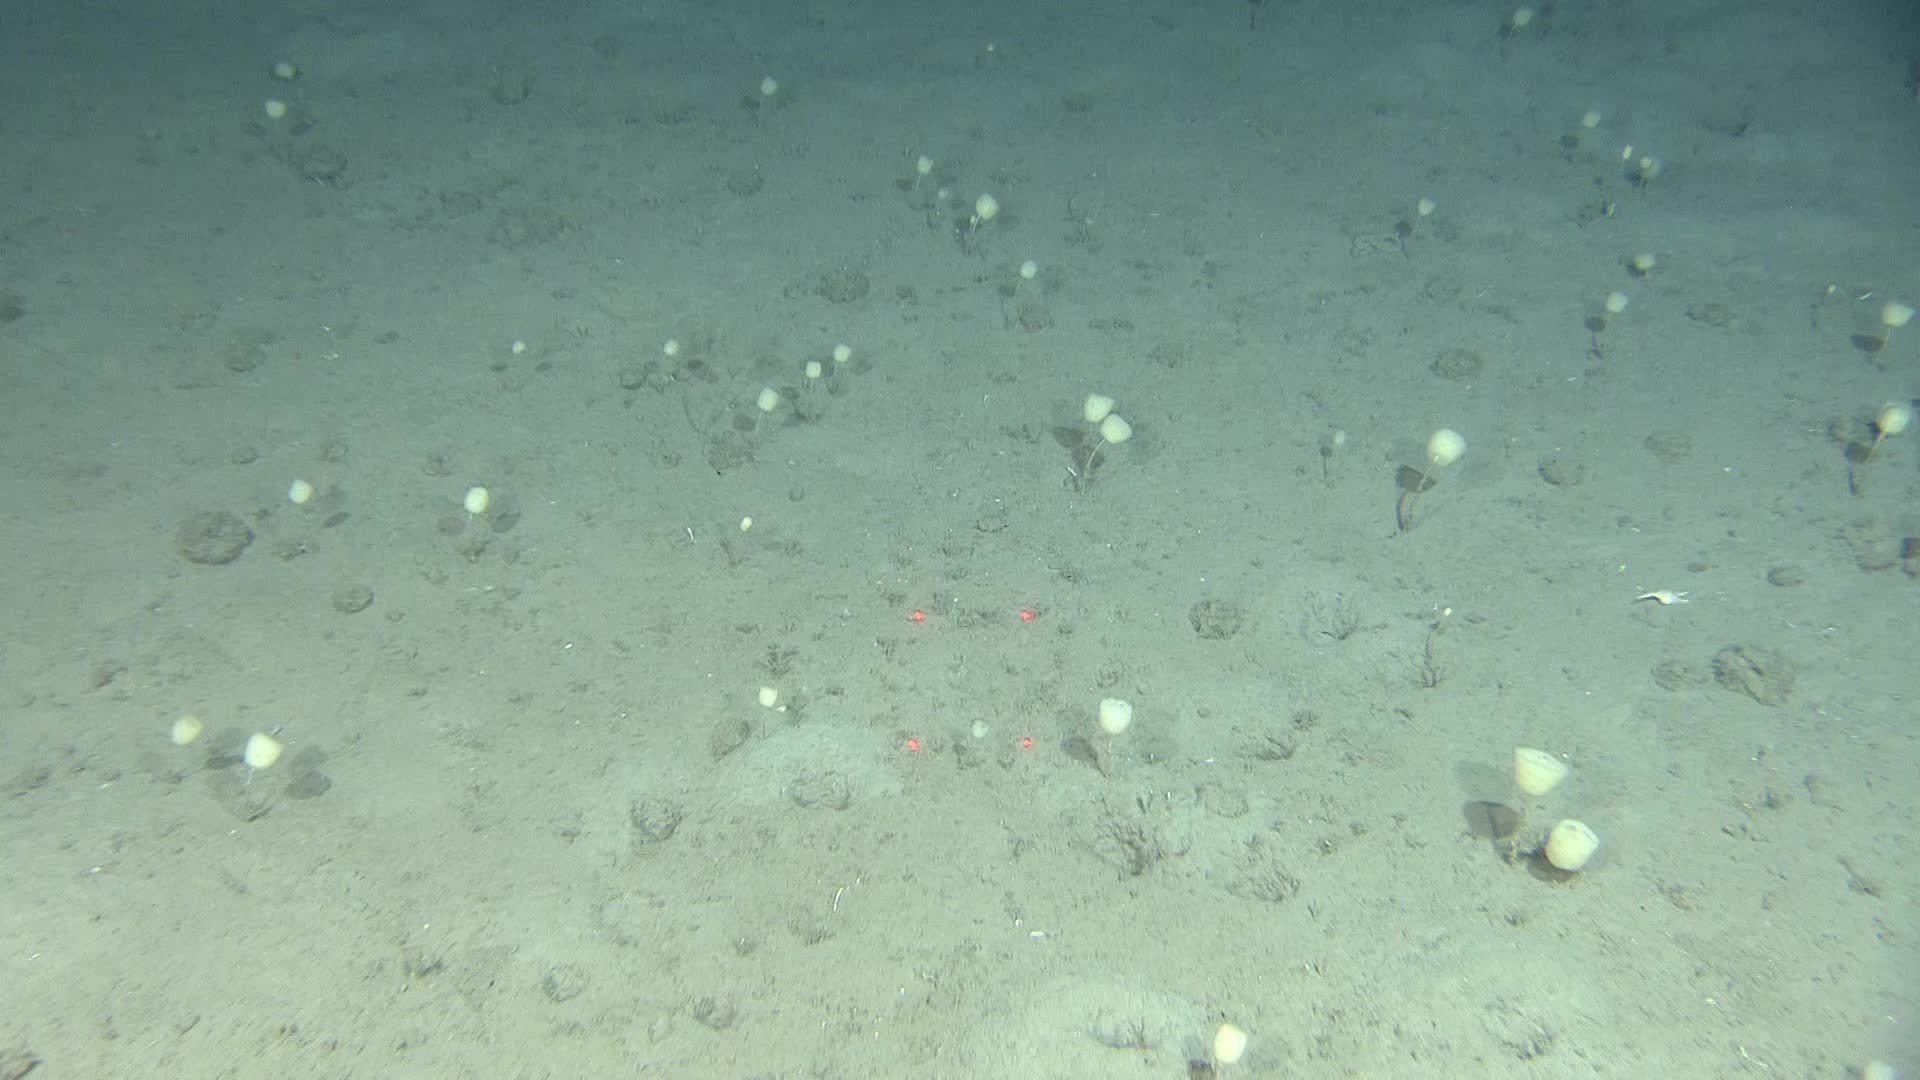S.borealis: (1487, 740, 1584, 880), (1393, 415, 1487, 534), (1536, 810, 1613, 918), (220, 713, 316, 799), (153, 691, 231, 778), (1191, 993, 1267, 1080), (269, 469, 345, 546), (442, 480, 518, 556), (1065, 384, 1124, 480), (1085, 405, 1142, 502), (1853, 389, 1911, 475), (1085, 691, 1142, 778), (740, 680, 796, 745), (1873, 297, 1920, 373), (1325, 400, 1364, 487), (749, 378, 787, 464), (1007, 253, 1065, 307), (1593, 291, 1633, 356), (902, 140, 940, 206), (960, 194, 998, 260), (960, 702, 998, 766), (825, 335, 864, 400), (787, 345, 825, 410), (653, 335, 691, 400), (749, 65, 787, 129), (1402, 183, 1440, 248), (269, 49, 307, 103), (729, 502, 767, 556), (1633, 146, 1671, 200), (1575, 103, 1613, 157), (1498, 5, 1536, 59), (500, 335, 538, 378), (1633, 237, 1671, 281), (260, 92, 278, 146), (931, 183, 951, 227), (1622, 140, 1642, 183)
